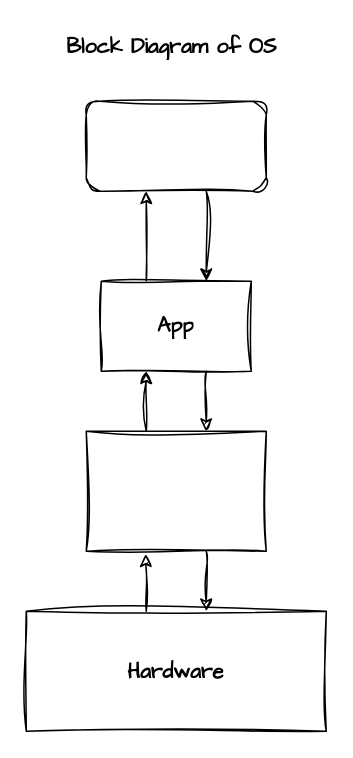
Image size: 353x758. Some labels were removed from this diagram. Each missing label, with the box of its shape:
OS: (85, 430, 266, 551)
User: (85, 100, 266, 191)
